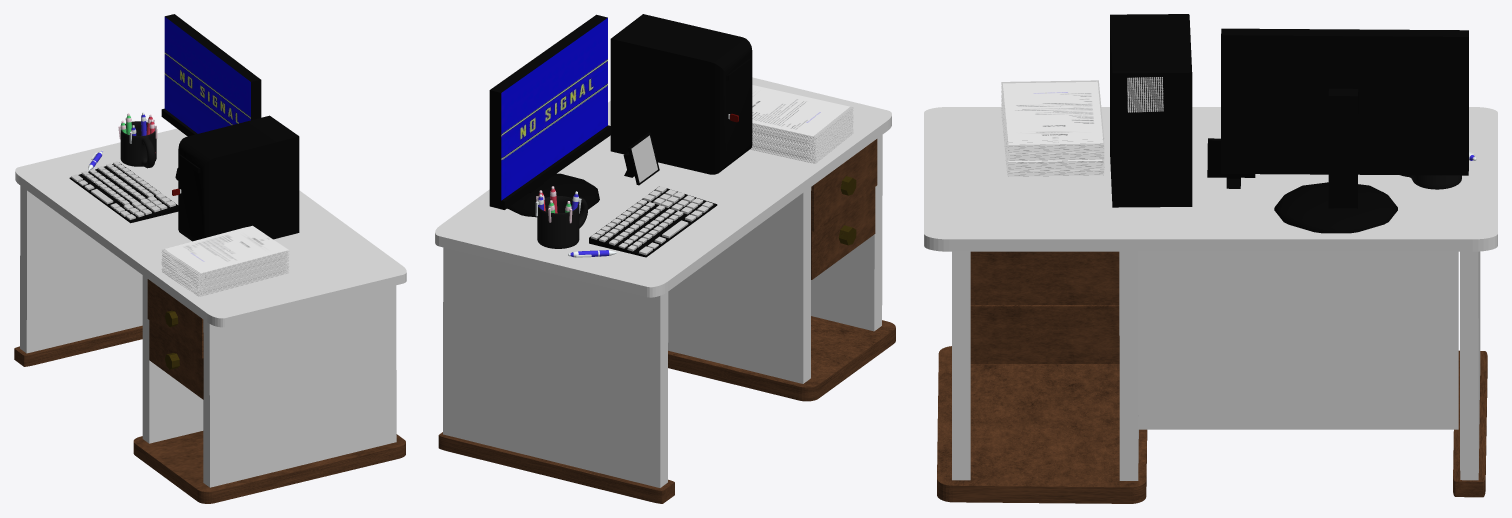
The model's file is office desk with monitor .fbx.
The picture shows the model from 3 angles, left to right: view 1: azimuth 30°, elevation 25°; view 2: azimuth 150°, elevation 25°; view 3: azimuth 270°, elevation 25°; orthographic projection. The views are drawn at different scales.
Visible parts, largest first — view 1: Cube, Plane, Cube.007, Plane.001, Cube.003, Cube.002, Cube.001, Plane.300, Cube.006, Cube.005, Cube.008, Cube.004 (+1 smaller); view 2: Cube.007, Plane, Plane.001, Cube.001, Cube.003, Cube.002, Cube, Cube.008, Plane.300, Cube.006, Cube.005, Cylinder.009 (+3 smaller); view 3: Cube.009, Plane, Cube.003, Cube.002, Plane.001, Cube.005, Cube.006, Plane.300, Cube.007, Cube.001, Cube, Icosphere (+3 smaller).
Boxes of the visible parts, bbox=[...] form: Cube: bbox=[203, 285, 396, 487]; Plane: bbox=[15, 128, 406, 327]; Cube.007: bbox=[20, 186, 142, 353]; Plane.001: bbox=[178, 115, 299, 241]; Cube.003: bbox=[161, 14, 261, 136]; Cube.002: bbox=[133, 431, 405, 503]; Cube.001: bbox=[142, 275, 203, 443]; Plane.300: bbox=[164, 227, 283, 273]; Cube.006: bbox=[147, 279, 203, 358]; Cube.005: bbox=[149, 320, 203, 399]; Cube.008: bbox=[14, 325, 142, 366]; Cube.004: bbox=[69, 162, 178, 223]; Cube.007: bbox=[443, 247, 668, 487]; Plane: bbox=[435, 77, 891, 297]; Plane.001: bbox=[610, 14, 752, 174]; Cube.001: bbox=[668, 187, 811, 383]; Cube.003: bbox=[489, 14, 611, 209]; Cube.002: bbox=[668, 316, 895, 401]; Cube: bbox=[811, 135, 882, 331]; Cube.008: bbox=[438, 432, 674, 503]; Plane.300: bbox=[752, 85, 849, 136]; Cube.006: bbox=[811, 139, 877, 231]; Cube.005: bbox=[811, 187, 875, 279]; Cylinder.009: bbox=[537, 196, 587, 248]; Cube.009: bbox=[1138, 251, 1458, 429]; Plane: bbox=[924, 107, 1497, 251]; Cube.003: bbox=[1221, 28, 1468, 208]; Cube.002: bbox=[937, 346, 1147, 503]; Plane.001: bbox=[1110, 14, 1192, 207]; Cube.005: bbox=[970, 305, 1119, 363]; Cube.006: bbox=[970, 251, 1119, 304]; Plane.300: bbox=[1003, 81, 1102, 140]; Cube.007: bbox=[1460, 251, 1480, 480]; Cube.001: bbox=[1119, 251, 1138, 480]; Cube: bbox=[952, 251, 970, 480]; Icosphere: bbox=[1274, 182, 1397, 233].
Size of the model in its own units: 214 by 310 by 370.
